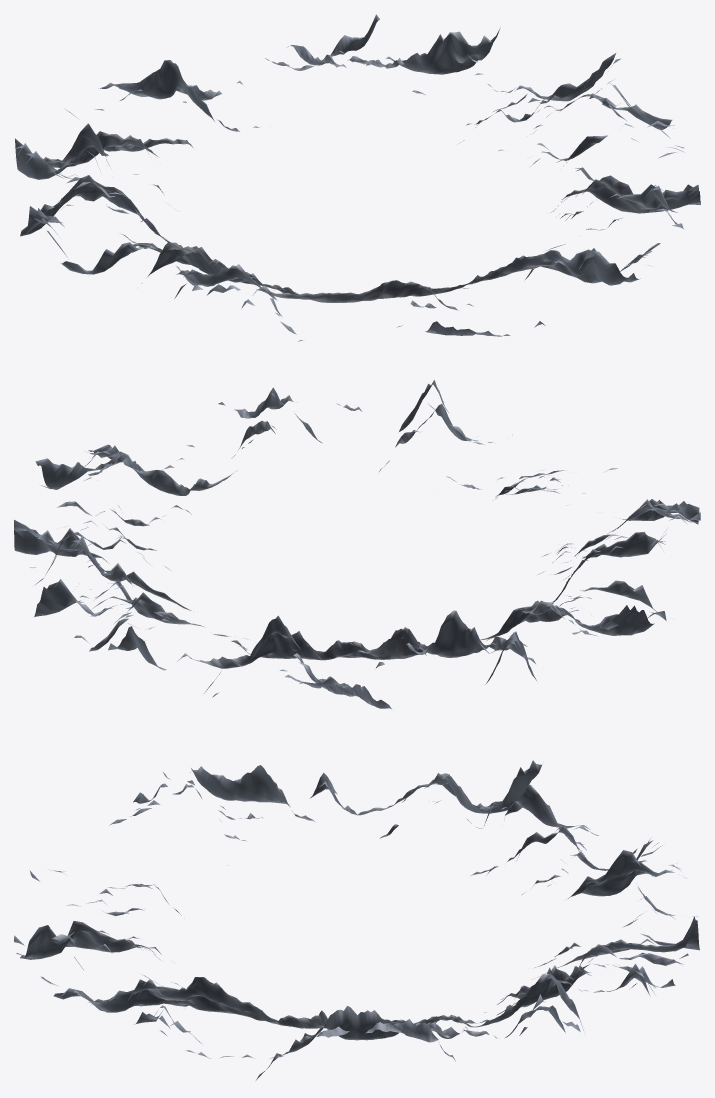
File: range_peaks.glb
3 renders of one model, top to bottom at view 1: azimuth 30°, elevation 25°; view 2: azimuth 150°, elevation 25°; view 3: azimuth 270°, elevation 25°, orthographic.
Parts seen in each view (by area): view 1: peaks; view 2: peaks; view 3: peaks.
Part boxes in pixels (box(x1,y1,x2,y2)): peaks: box(15, 14, 700, 341); peaks: box(14, 380, 700, 709); peaks: box(14, 760, 699, 1080).
Bounding box in the file's own units: 1150 × 165 × 1150.
